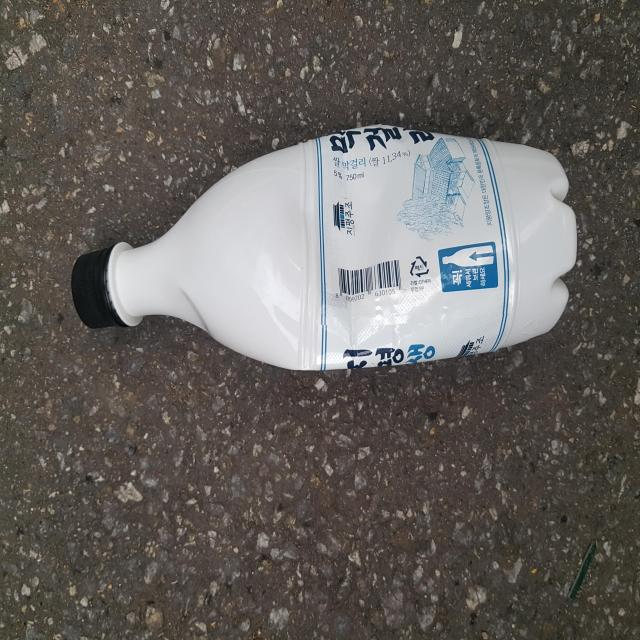bottle: (72, 117, 581, 380)
